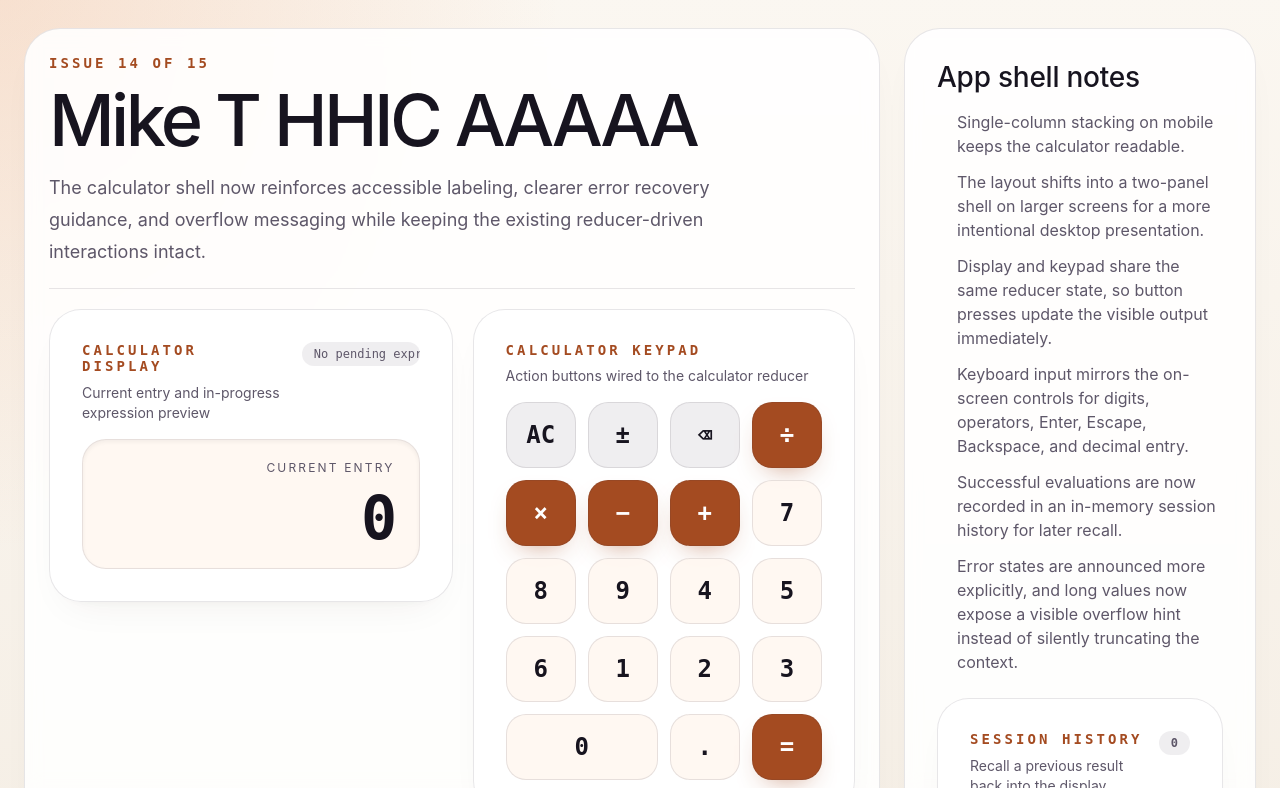
Test: App › updates the display when keypad actions are pressed
The width and height of the screenshot is (1280, 788).
Step 1. Click the button named "Digit 1" → (623, 669), box [588,636,658,702]
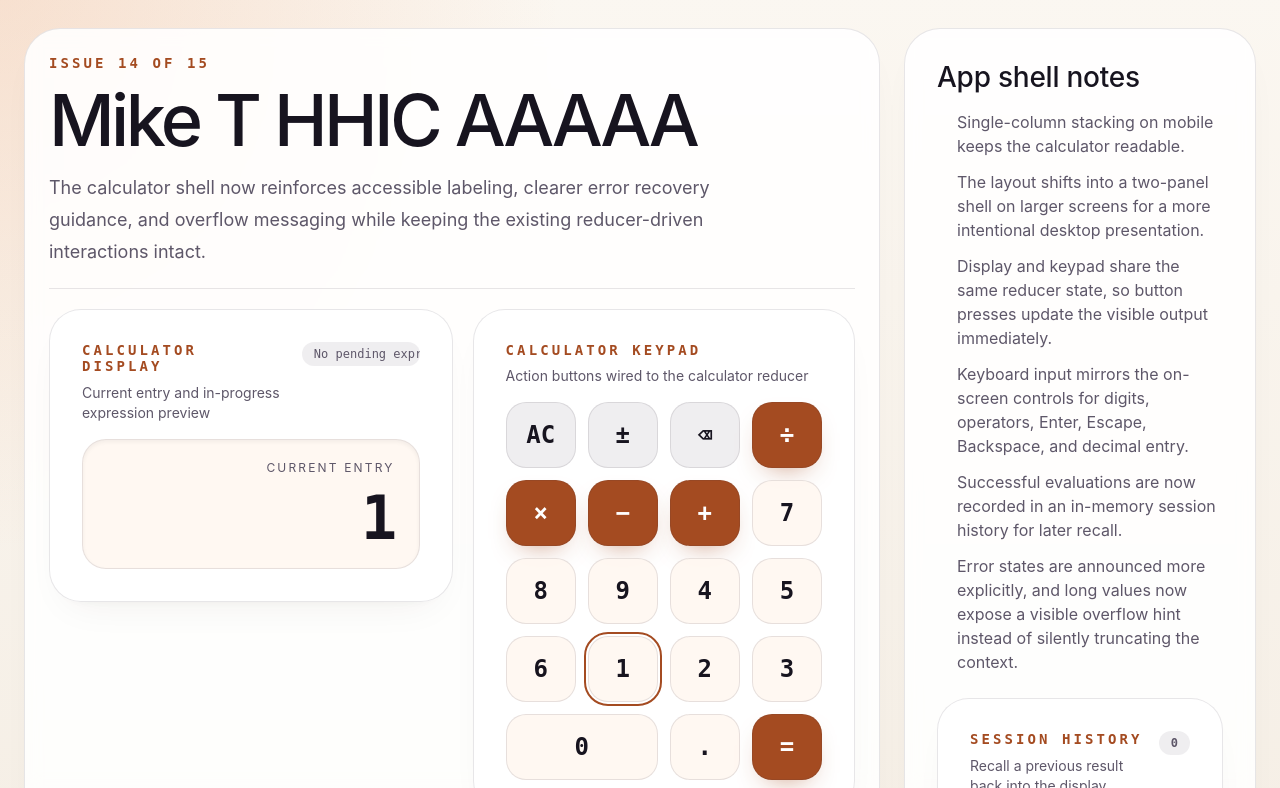
Step 2. Click the button named "Digit 2" → (705, 669), box [670,636,740,702]
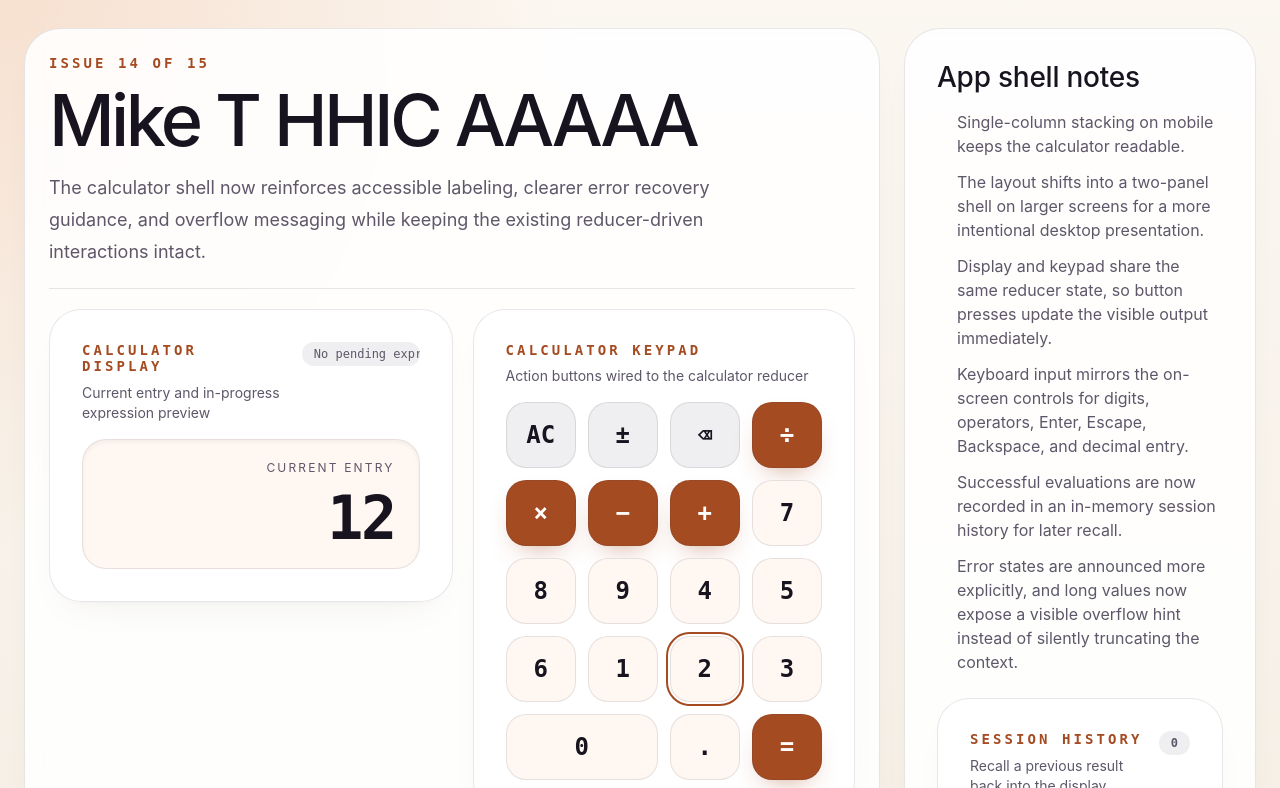
Step 3. Click the button named "add operator" → (705, 513), box [670,480,740,546]
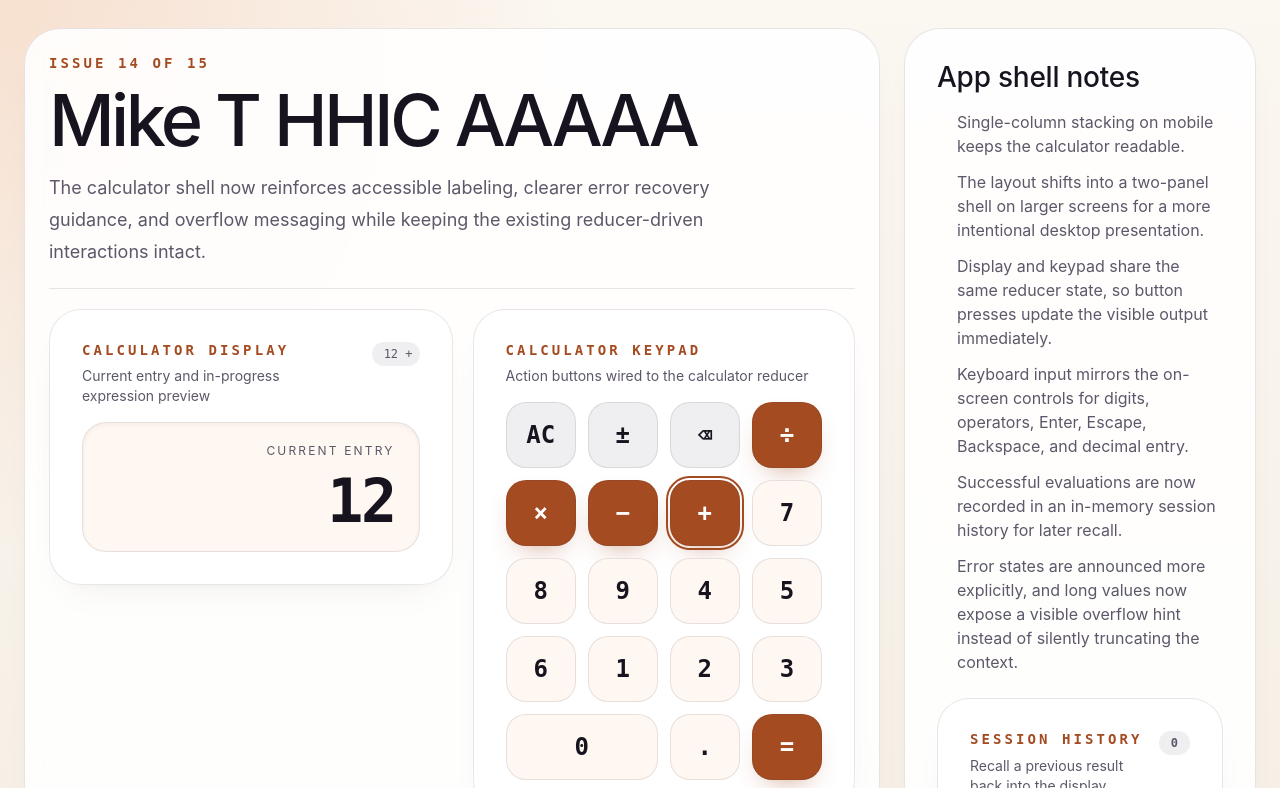
Step 4. Click the button named "Digit 3" → (787, 669), box [752,636,822,702]
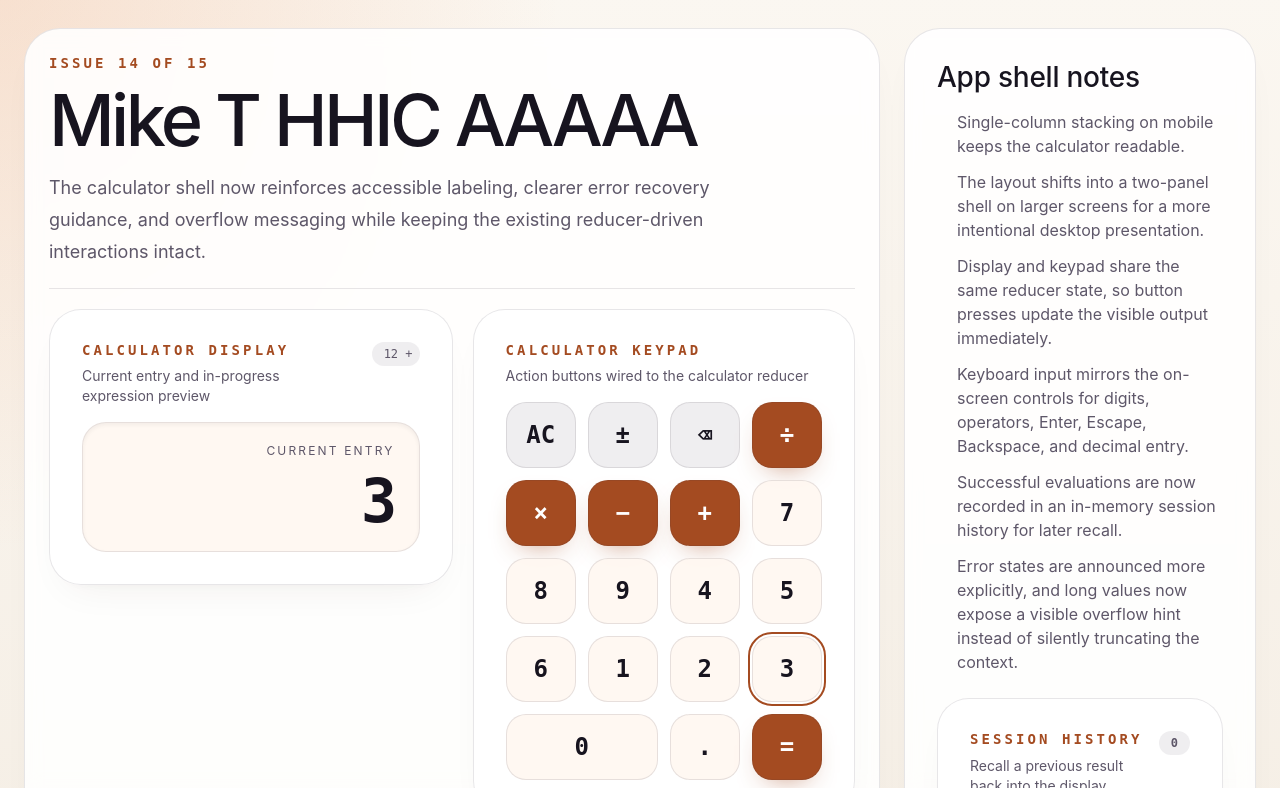
expect the text named "Pending expression" reads "12 +": met, box [384,346,412,360]
expect the text named "Current value" reads "3": met, box [361,466,395,536]
Step 5. Click the button named "Evaluate expression" → (787, 747), box [752,714,822,780]
(page scrolled)
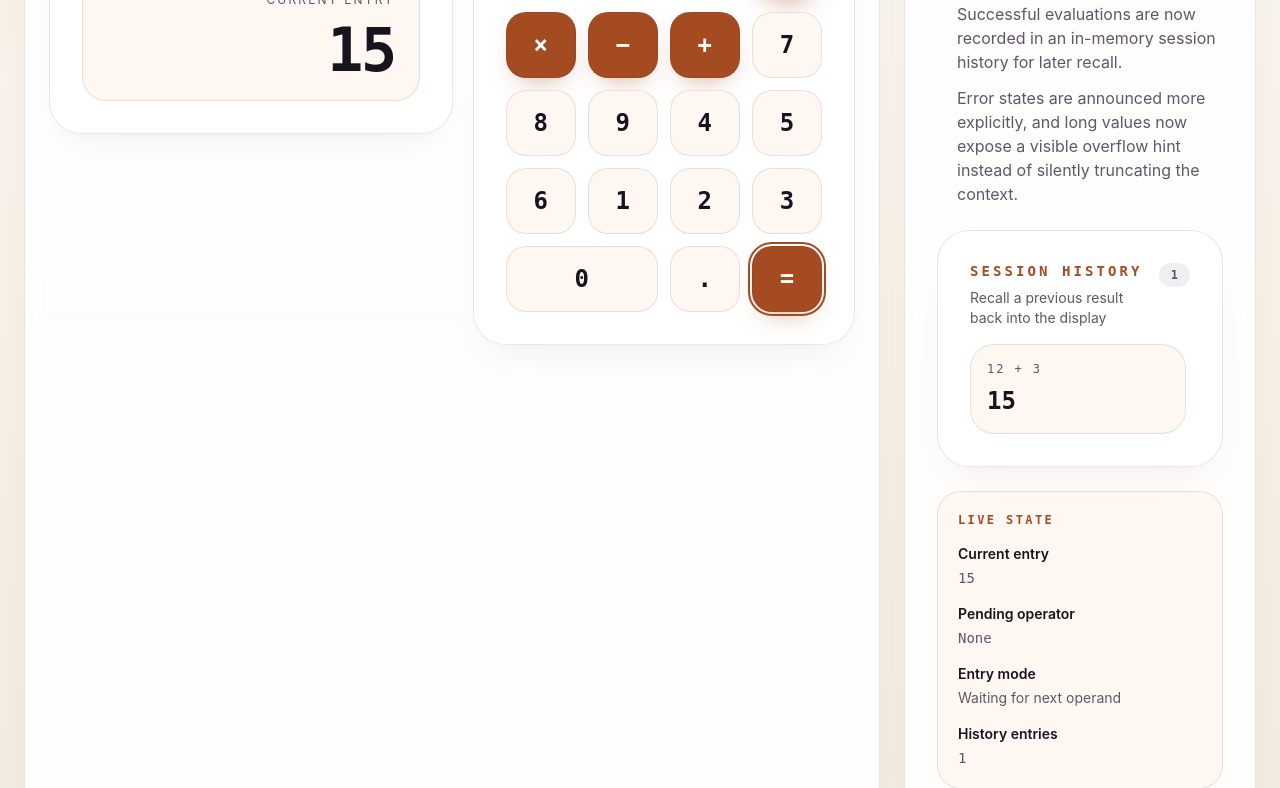
expect the text named "Current value" reads "15": met, box [327,15,395,85]
expect the text "1" below "History entries" is shown: met, box [958,750,966,766]
expect the button named "Recall 12 + 3 equals 15" is shown: met, box [970,344,1186,434]
